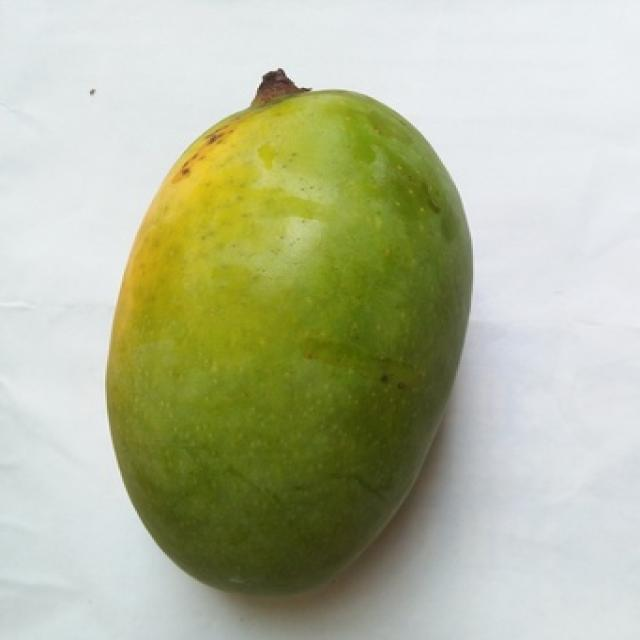Mango: (107, 91, 471, 591)
